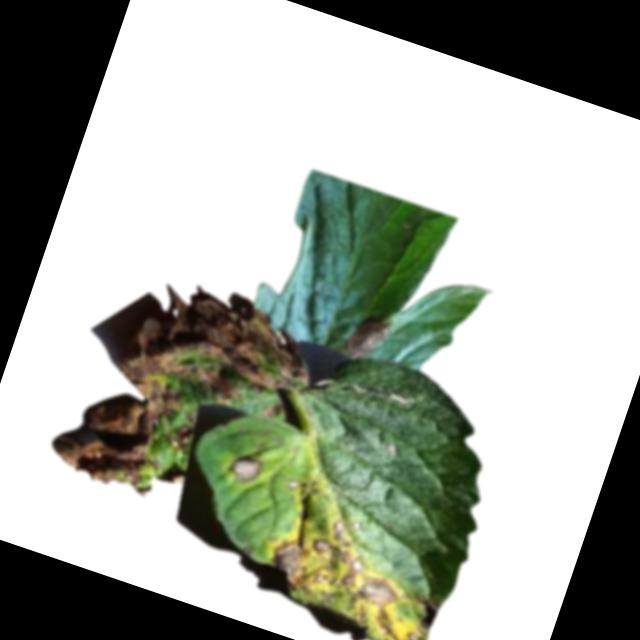Early_blight: (47, 260, 323, 535), (255, 506, 454, 640), (341, 308, 398, 365), (226, 448, 267, 489)
